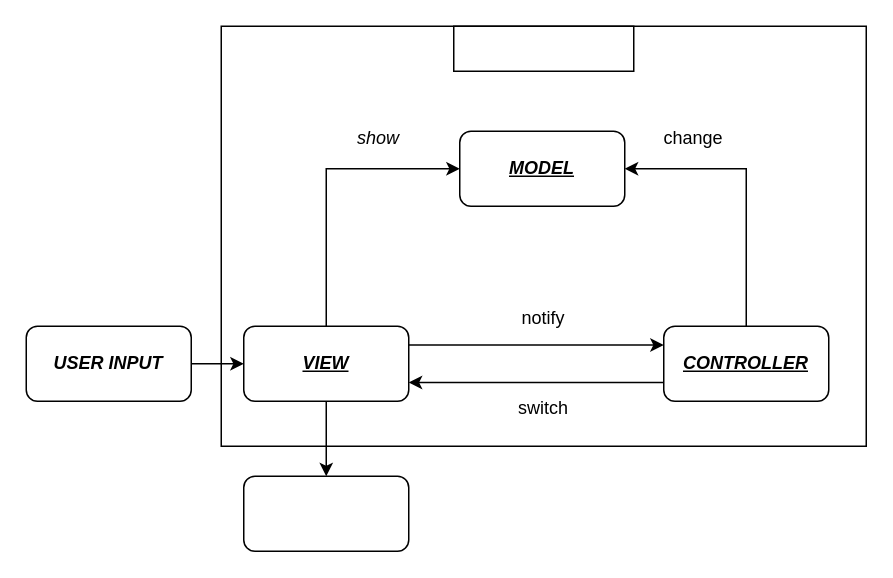
The diagram is 893 pixels wide and 578 high, and some of its shapes have lost their labels. Each missing label, with the box of its shape:
SCREEN OUTPUT: (242, 475, 409, 551)
SYSTEM: (452, 25, 634, 71)
